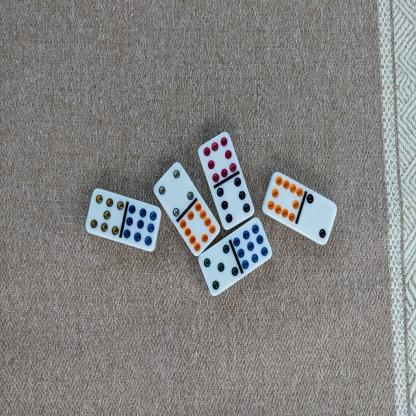pip-10: (179, 200, 219, 256), (261, 171, 303, 222)
pip-2: (302, 191, 336, 244)
pip-4: (154, 161, 193, 218)
pip-5: (198, 242, 238, 297)
pip-6: (217, 176, 254, 230)
pip-7: (85, 187, 124, 236)
pip-8: (197, 131, 236, 182)
pip-9: (233, 216, 271, 270), (122, 203, 160, 250)
